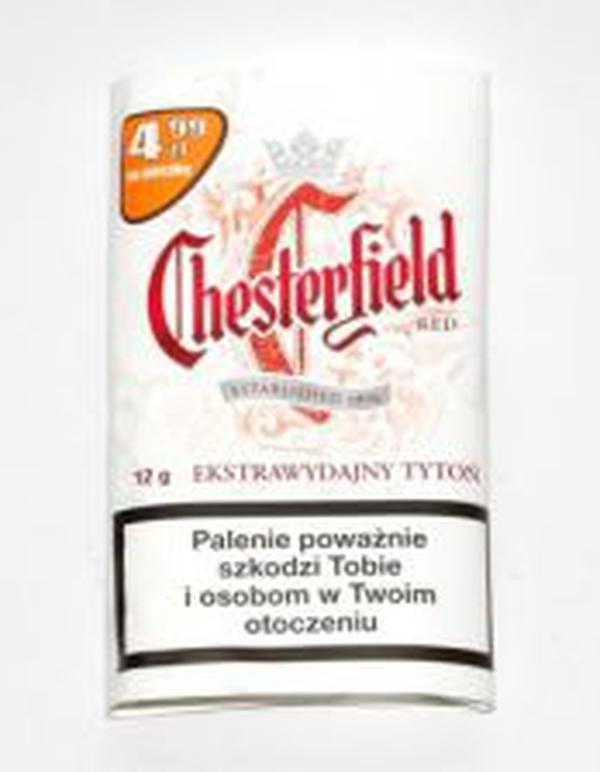chesterfield_red: (115, 78, 488, 701)
